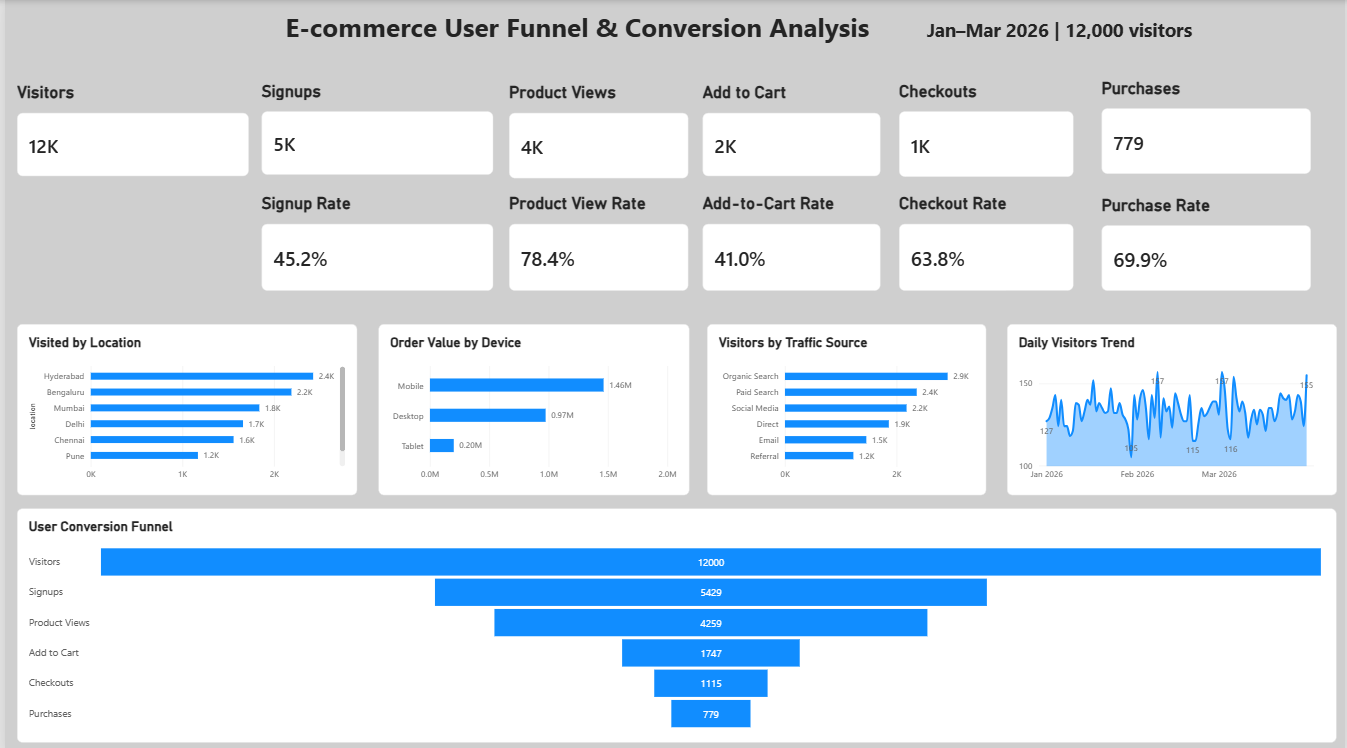

Layout of this report page (visuals, bound fields, positions):
{"tool":"powerbi","page":{"name":"Page 1","canvas":[1920,1080],"ordinal":0},"visuals":[{"type":"cardVisual","title":"Signups","fields":{"Data":["Sum(user_funnel_raw_data.signed_up)"]},"box":[367.5,115,332.5,135],"z":0},{"type":"cardVisual","title":"Product Views","fields":{"Data":["Sum(user_funnel_raw_data.viewed_product)"]},"box":[722.5,117.5,257.5,137.5],"z":1000},{"type":"cardVisual","title":"Add to Cart","fields":{"Data":["Sum(user_funnel_raw_data.added_to_cart)"]},"box":[1000,117.5,255,135],"z":2000},{"type":"cardVisual","title":"Checkouts","fields":{"Data":["Sum(user_funnel_raw_data.started_checkout)"]},"box":[1280,115,250,137.5],"z":3000},{"type":"cardVisual","title":"Purchases","fields":{"Data":["Sum(user_funnel_raw_data.purchased)"]},"box":[1570,112.5,300,137.5],"z":4000},{"type":"funnel","title":"User Conversion Funnel","fields":{"Category":["FunnelStages.Stage"],"Y":["FunnelStages.Funnel Count"]},"box":[17.5,727.5,1890,335],"z":5000},{"type":"cardVisual","title":"Signup Rate","fields":{"Data":["FunnelStages.Signup Conversion %"]},"box":[367.5,277.5,332.5,140],"z":6000},{"type":"cardVisual","title":"Purchase Rate","fields":{"Data":["FunnelStages.Purchase Conversion %"]},"box":[1570,280,300,137.5],"z":7000},{"type":"cardVisual","title":"Product View Rate","fields":{"Data":["FunnelStages.Product View Conversion %"]},"box":[722.5,277.5,257.5,140],"z":8000},{"type":"cardVisual","title":"Checkout Rate","fields":{"Data":["FunnelStages.Checkout Conversion %"]},"box":[1280,277.5,250,140],"z":9000},{"type":"cardVisual","title":"Add-to-Cart Rate","fields":{"Data":["FunnelStages.Add to Cart Conversion %"]},"box":[1000,277.5,255,140],"z":10000},{"type":"lineChart","title":"Daily Visitors Trend","fields":{"Category":["user_funnel_raw_data.session_date.Variation.Date Hierarchy.Year","user_funnel_raw_data.session_date.Variation.Date Hierarchy.Quarter","user_funnel_raw_data.session_date.Variation.Date Hierarchy.Month","user_funnel_raw_data.session_date.Variation.Date Hierarchy.Day"],"Y":["Sum(user_funnel_raw_data.visited)"]},"box":[1435,465,472.5,245],"z":11000},{"type":"clusteredBarChart","title":"Visitors by Traffic Source","fields":{"Category":["user_funnel_raw_data.traffic_source"],"Y":["Sum(user_funnel_raw_data.visited)"]},"box":[1005,465,400,245],"z":12000},{"type":"clusteredBarChart","title":"Order Value by Device","fields":{"Category":["user_funnel_raw_data.device"],"Y":["Sum(user_funnel_raw_data.order_value)"]},"box":[535,465,445,245],"z":13000},{"type":"clusteredBarChart","title":"Visited by Location","fields":{"Category":["user_funnel_raw_data.location"],"Y":["Sum(user_funnel_raw_data.visited)"]},"box":[17.5,465,487.5,245],"z":14000},{"type":"cardVisual","title":"Visitors","fields":{"Data":["Sum(user_funnel_raw_data.visited)"]},"box":[17.5,117.5,332.5,135],"z":15000},{"type":"textbox","box":[0,12.5,1877.5,92.5],"z":16000}]}

Visuals, with their boxes in screenshot pixels (x1, y1, x2, y2), scaled from the page's 1920x1080 canvas onto the 1347x748 screenshot:
"Signups" cardVisual: BBox(258, 80, 491, 173)
"Product Views" cardVisual: BBox(507, 81, 688, 177)
"Add to Cart" cardVisual: BBox(702, 81, 880, 175)
"Checkouts" cardVisual: BBox(898, 80, 1073, 175)
"Purchases" cardVisual: BBox(1101, 78, 1312, 173)
"User Conversion Funnel" funnel: BBox(12, 504, 1338, 736)
"Signup Rate" cardVisual: BBox(258, 192, 491, 289)
"Purchase Rate" cardVisual: BBox(1101, 194, 1312, 289)
"Product View Rate" cardVisual: BBox(507, 192, 688, 289)
"Checkout Rate" cardVisual: BBox(898, 192, 1073, 289)
"Add-to-Cart Rate" cardVisual: BBox(702, 192, 880, 289)
"Daily Visitors Trend" lineChart: BBox(1007, 322, 1338, 492)
"Visitors by Traffic Source" clusteredBarChart: BBox(705, 322, 986, 492)
"Order Value by Device" clusteredBarChart: BBox(375, 322, 688, 492)
"Visited by Location" clusteredBarChart: BBox(12, 322, 354, 492)
"Visitors" cardVisual: BBox(12, 81, 246, 175)
textbox: BBox(0, 9, 1317, 73)
